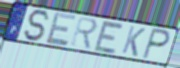E: (92, 19, 126, 56), (45, 11, 78, 47)
K: (120, 25, 147, 58)
P: (140, 27, 172, 61)
R: (69, 16, 99, 52)
S: (23, 9, 52, 43)
